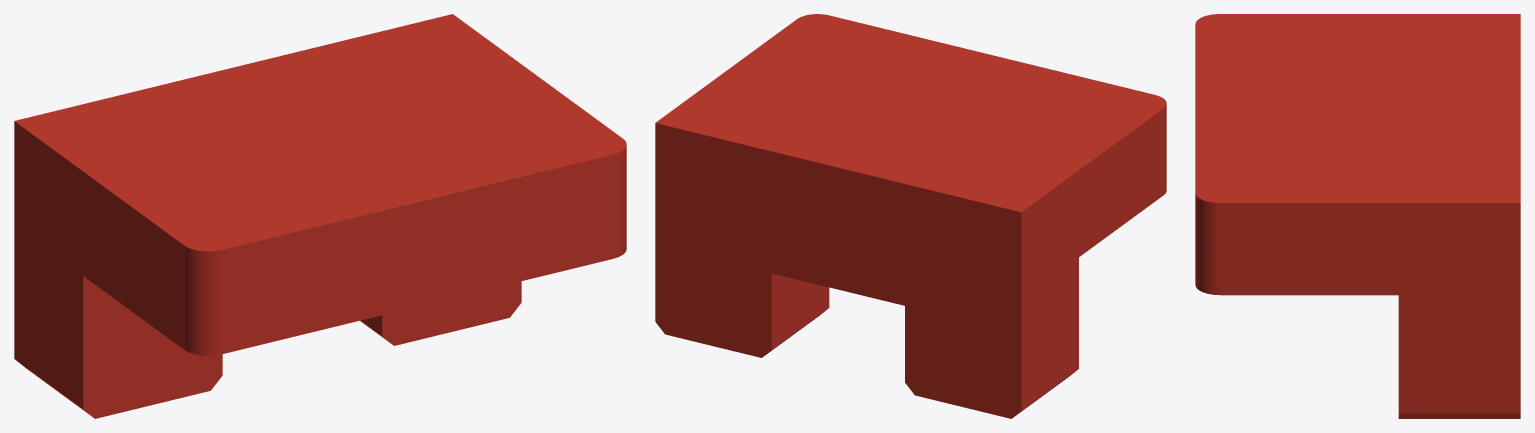
The picture shows the model from 3 angles, left to right: view 1: azimuth 30°, elevation 25°; view 2: azimuth 150°, elevation 25°; view 3: azimuth 270°, elevation 25°; orthographic projection. The views are drawn at different scales.
Parts seen in each view (by area): view 1: Body1; view 2: Body1; view 3: Body1.
Boxes of the visible parts, x1,y1,x2,y2 form: Body1: [14, 14, 626, 418]; Body1: [655, 14, 1166, 418]; Body1: [1195, 14, 1520, 418].
Bounding box in the file's own units: 11 × 6 × 8.
